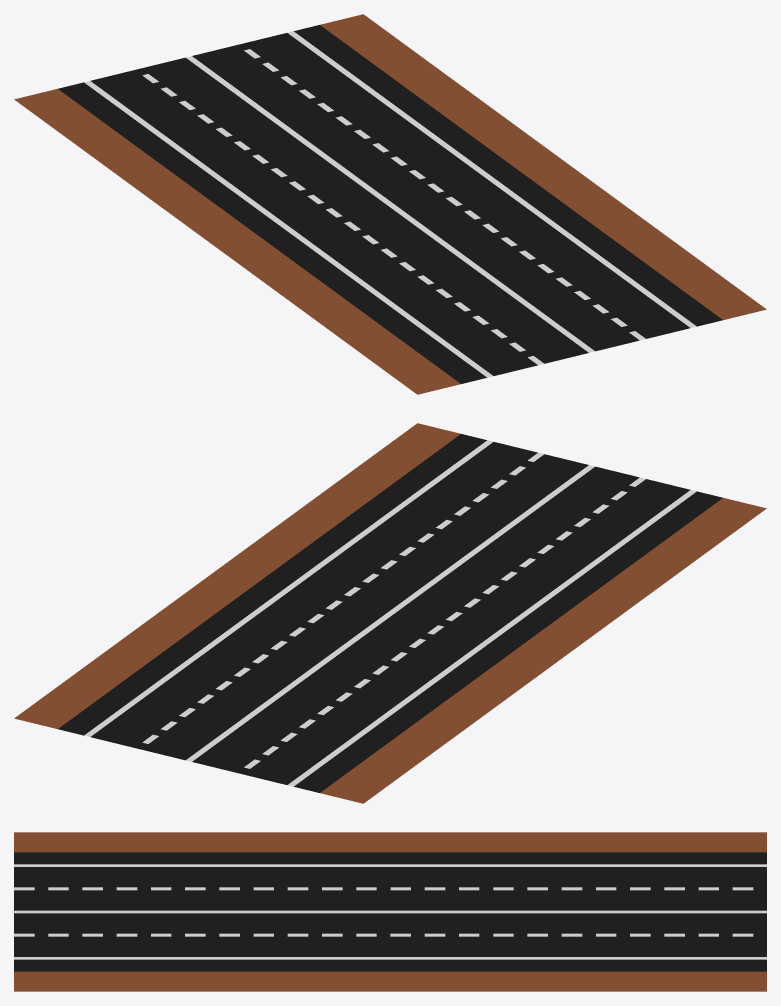
The model's file is calle.fbx.
3 views of the same model, one above another, from view 1: azimuth 30°, elevation 25°; view 2: azimuth 150°, elevation 25°; view 3: azimuth 270°, elevation 25° (orthographic). The views are drawn at different scales.
Parts seen in each view (by area): view 1: Calle; view 2: Calle; view 3: Calle.
Boxes of the visible parts, box(x1,y1,x2,y2) form: Calle: box(14, 14, 766, 394); Calle: box(14, 423, 766, 803); Calle: box(14, 832, 766, 991).
Size of the model in its own units: 4000 by 0.0013 by 8000.
